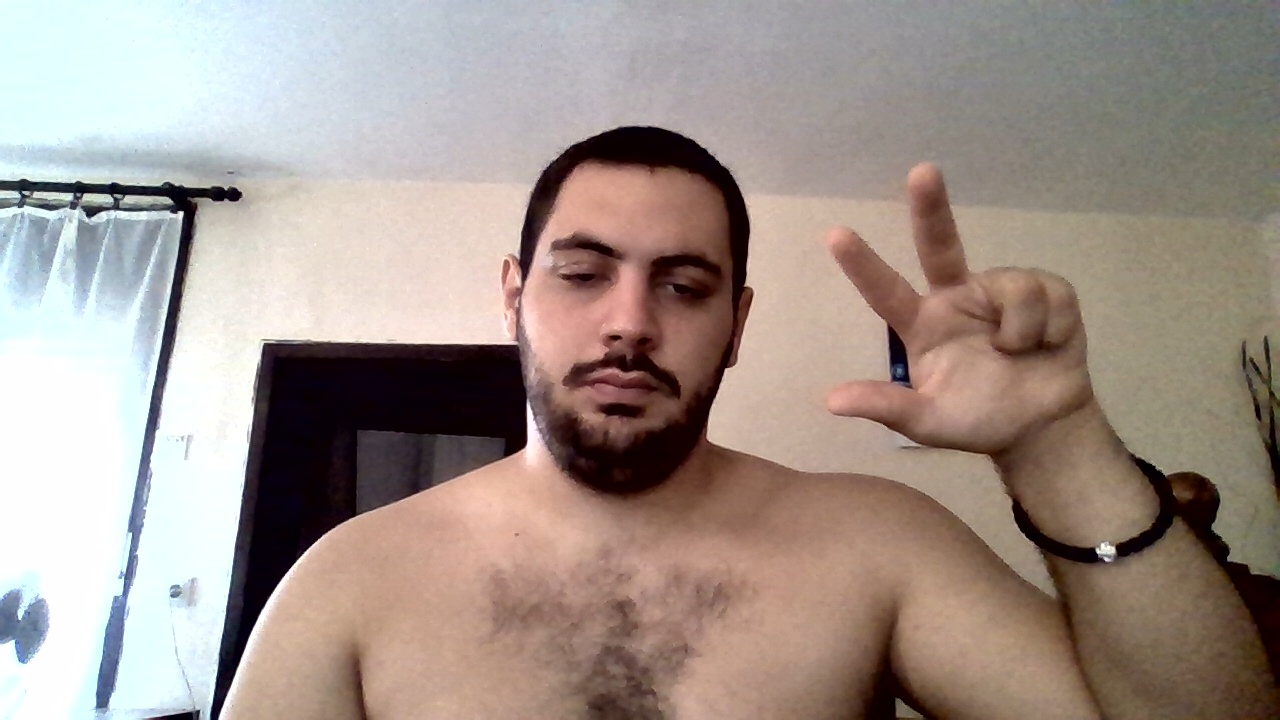serbia: (828, 161, 1081, 461)
